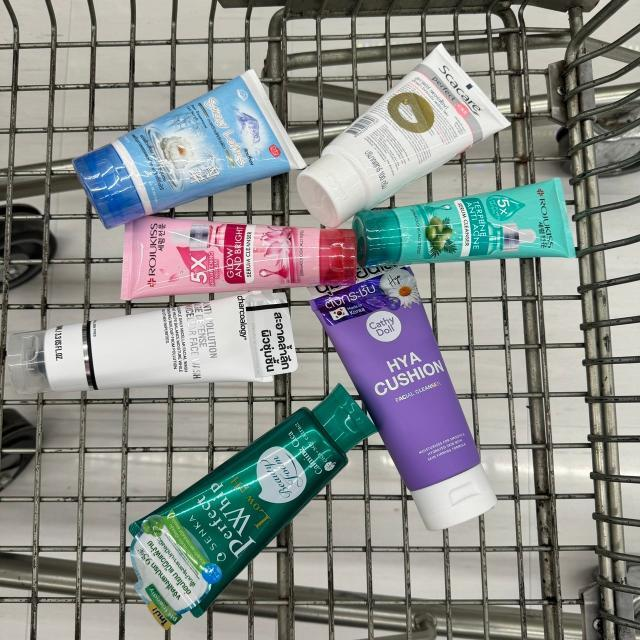Squeeze Tube: (133, 377, 380, 620), (317, 261, 503, 524), (297, 42, 511, 226), (73, 69, 305, 225), (9, 293, 291, 402), (123, 213, 354, 302), (359, 177, 567, 267)
